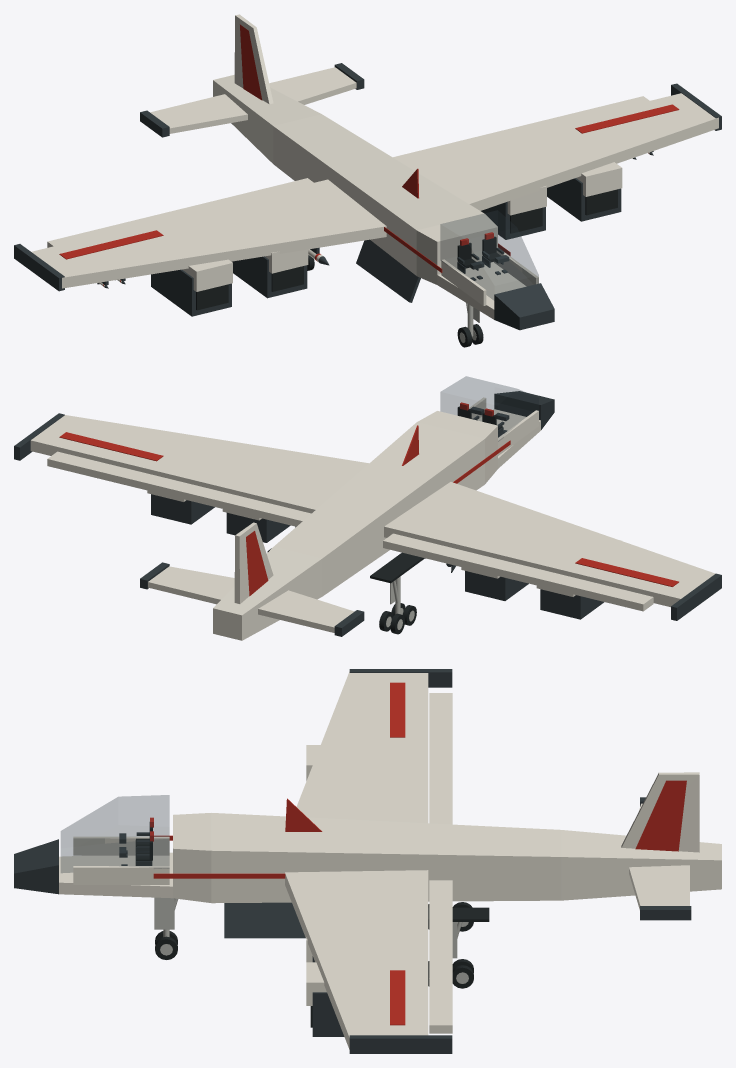
The picture shows the model from 3 angles, top to bottom: view 1: azimuth 30°, elevation 25°; view 2: azimuth 150°, elevation 25°; view 3: azimuth 270°, elevation 25°; orthographic projection. The views are drawn at different scales.
Visible parts, largest first — view 1: bomber-fleet-armor, bomber-fleet-machine, bomber-fleet-glass, bomber-fleet-red, bomber-fleet-rubber, flap-left-painted, flap-right-painted, crew-chair-copilot-painted, crew-chair-pilot-painted; view 2: bomber-fleet-armor, bomber-fleet-machine, flap-left-painted, flap-right-painted, bomber-fleet-glass, bomber-fleet-red, bomber-fleet-rubber; view 3: bomber-fleet-armor, bomber-fleet-machine, bomber-fleet-glass, bomber-fleet-red, flap-right-painted, flap-left-painted, landing-gear-nose-fleet-edge, bomber-fleet-rubber.
Part boxes in pixels (x1,y1,x2,y2): bomber-fleet-armor: (31,14,718,319); bomber-fleet-machine: (14,63,721,330); bomber-fleet-glass: (440,210,538,299); bomber-fleet-red: (59,24,679,272); bomber-fleet-rubber: (196,189,617,310); flap-left-painted: (47,178,313,247); flap-right-painted: (393,96,649,161); crew-chair-copilot-painted: (482,232,509,274); crew-chair-pilot-painted: (457,238,484,280); bomber-fleet-armor: (30,397,715,640); bomber-fleet-machine: (14,391,721,636); flap-left-painted: (383,533,653,611); flap-right-painted: (47,451,311,526); bomber-fleet-glass: (440,376,538,441); bomber-fleet-red: (59,425,678,596); bomber-fleet-rubber: (267,548,424,583); bomber-fleet-armor: (59,671,721,1049); bomber-fleet-machine: (14,669,691,1053); bomber-fleet-glass: (61,795,169,872); bomber-fleet-red: (153,682,686,1025); flap-right-painted: (429,880,452,1033); flap-left-painted: (429,693,452,824); landing-gear-nose-fleet-edge: (154,897,178,936); bomber-fleet-rubber: (310,907,489,1027).
Size of the model in its own units: 156 by 35.86 by 126.
